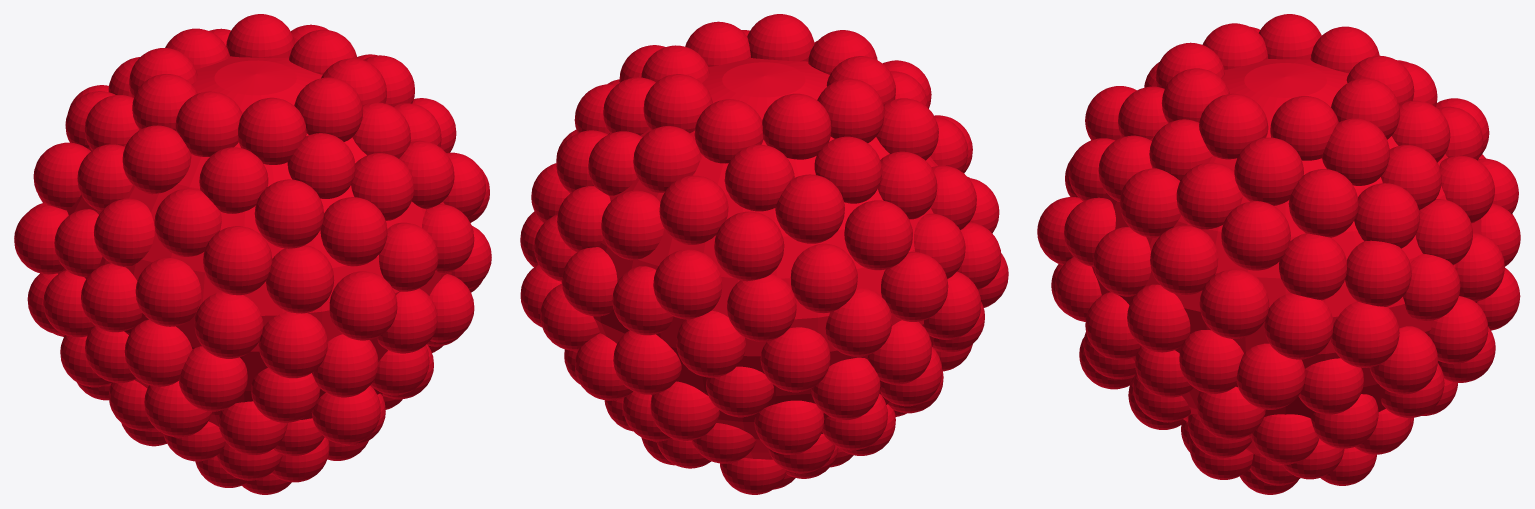
Rendered from raspberry.fbx.
3 renders of one model, left to right at view 1: azimuth 30°, elevation 25°; view 2: azimuth 150°, elevation 25°; view 3: azimuth 270°, elevation 25°, orthographic.
Parts seen in each view (by area): view 1: ShapeMain; view 2: ShapeMain; view 3: ShapeMain.
Boxes of the visible parts, x1,y1,x2,y2 form: ShapeMain: (14,14,491,494); ShapeMain: (520,14,1008,494); ShapeMain: (1037,14,1520,494).
Size of the model in its own units: 227 by 225 by 228.
